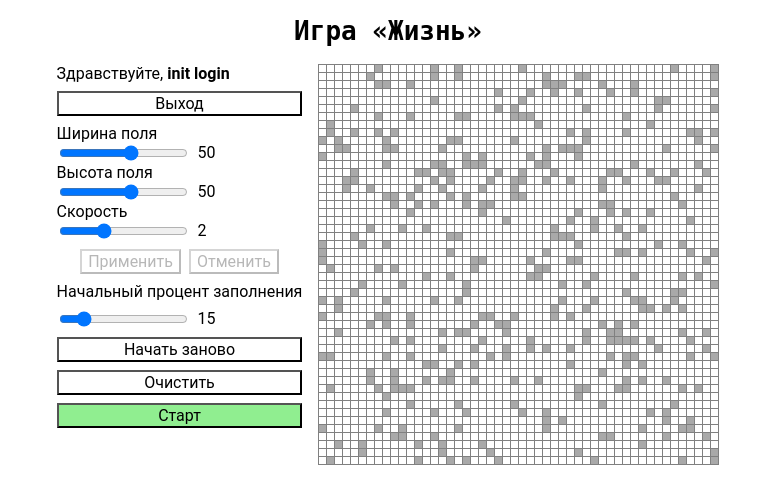
Test: App › should buttons work
Check: the heading "Игра «Жизнь»" is shown, box [294,16,482,46]
Check: the element that starts with "Ширина поля" is shown, box [57,124,302,428]
Set the slider with test id "inputBoardSizeX" to "60": coordinates (147, 153) [59,145,188,161]
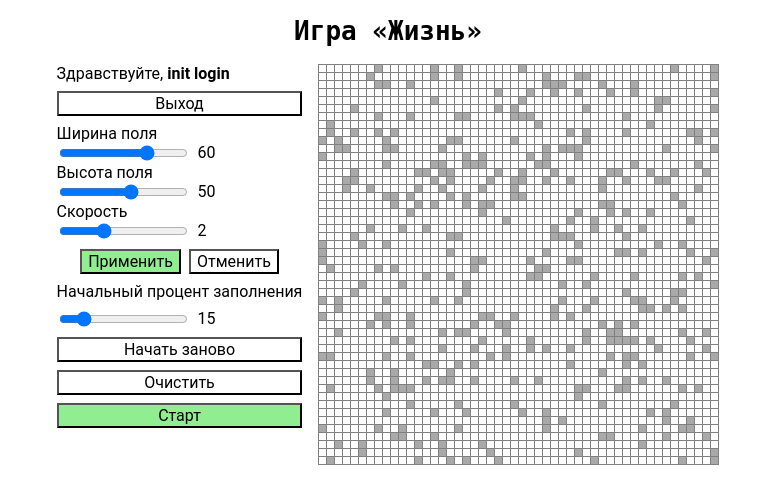
Click the button with test id "s-btn-ok": coordinates (130, 261) [80,249,181,274]
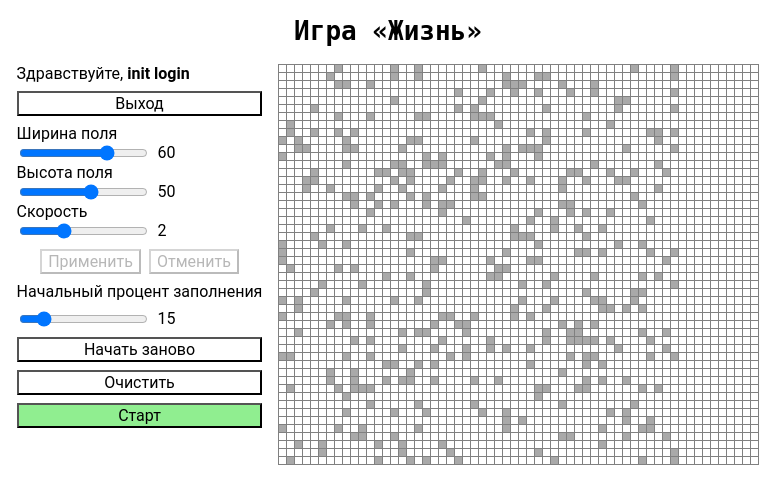
Click the button with test id "s-btn-start": coordinates (140, 415) [17,403,262,428]
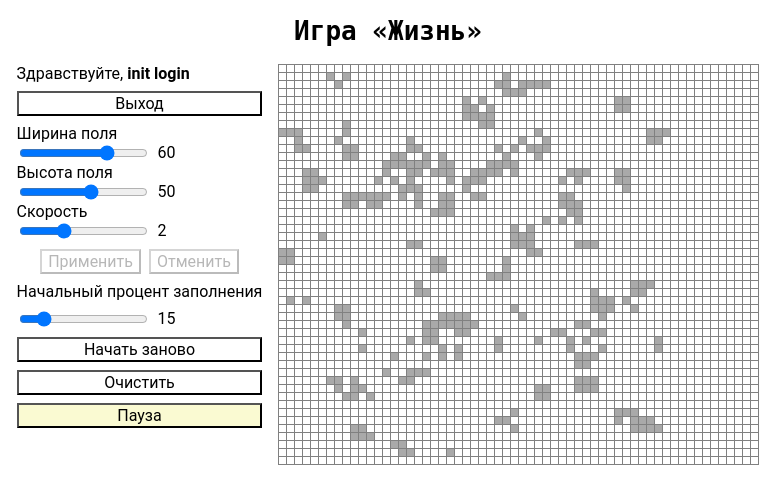
Check: the button with test id "s-btn-pause" is shown
Click the button with test id "s-btn-pause": coordinates (140, 415) [17,403,262,428]
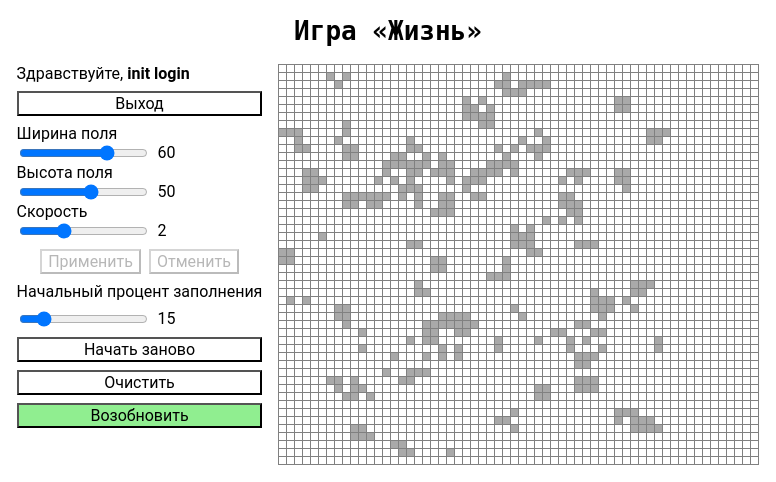
Check: the button with test id "s-btn-start" is shown, box [17,403,262,428]
